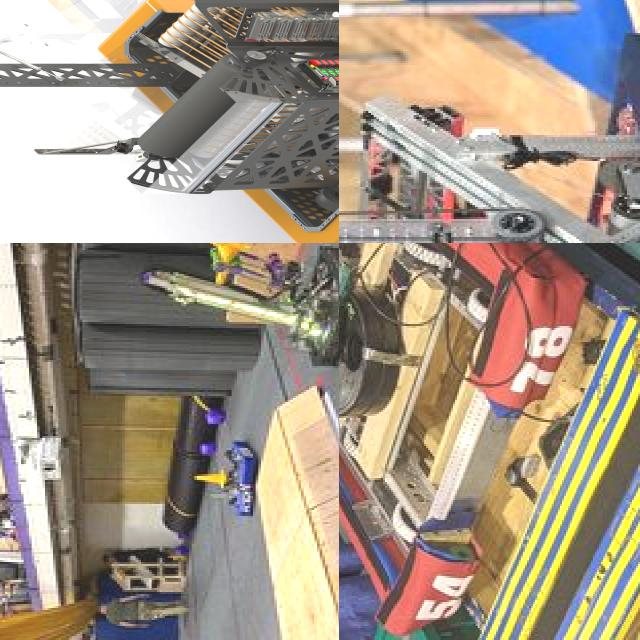FRC-Robots: (339, 243, 601, 630), (0, 0, 339, 243), (339, 17, 640, 243), (81, 243, 339, 387), (174, 426, 278, 528)
